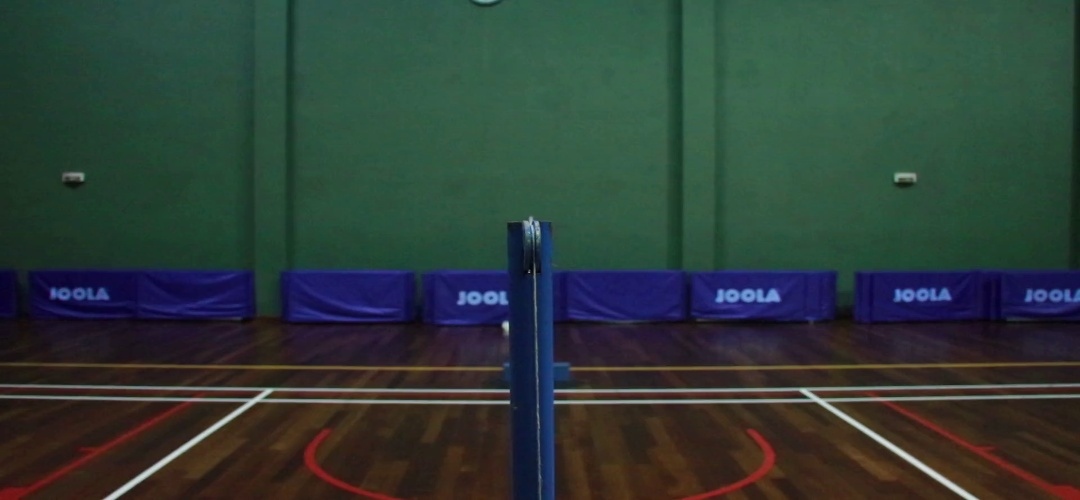c1: (238, 394, 278, 411)
c2: (796, 393, 839, 407)
net_level: (507, 222, 553, 290)
